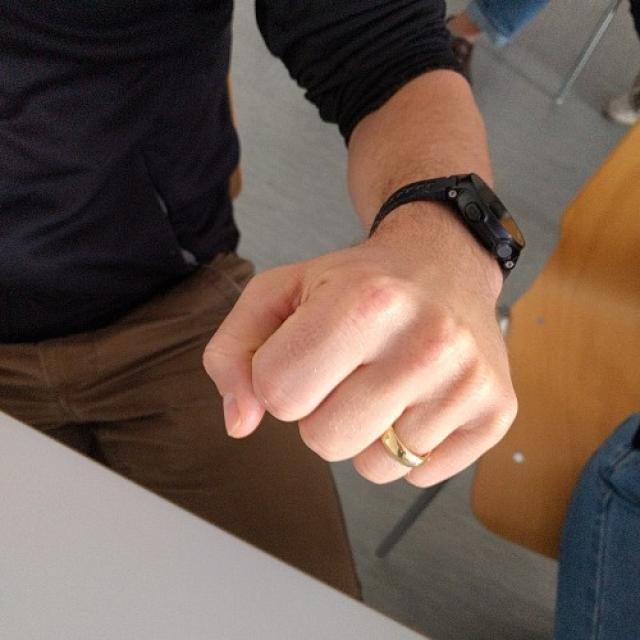fist: (195, 227, 542, 517)
